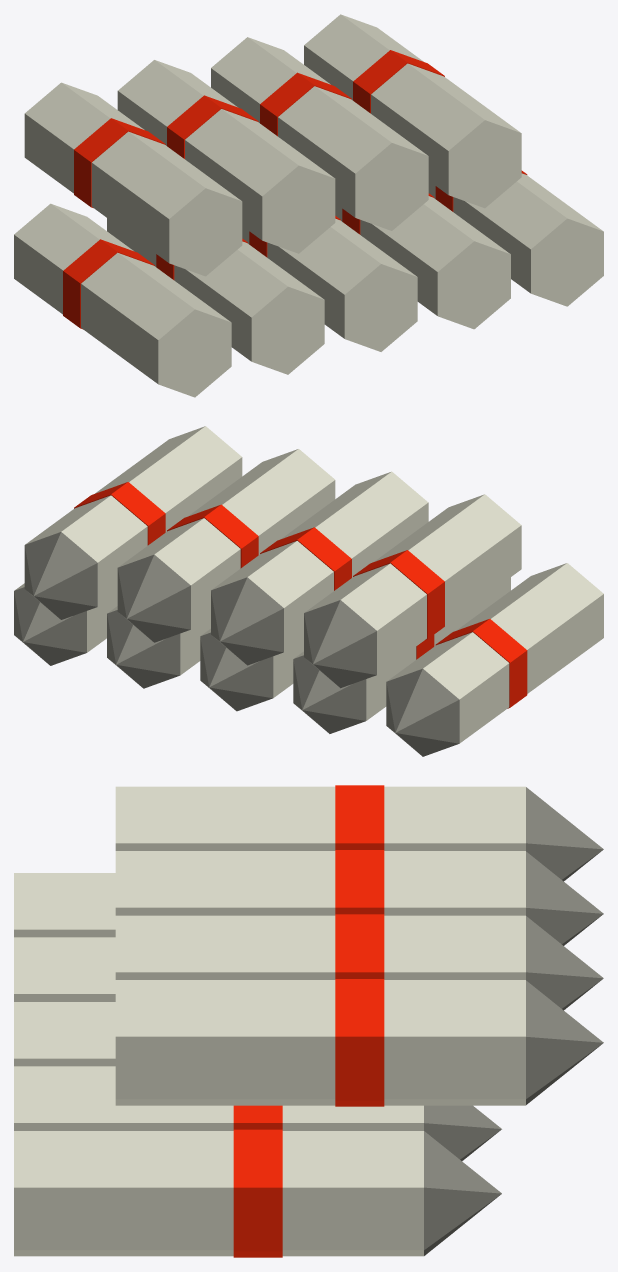
The model's file is ce_ammo_chcells_conc_b.obj.
The picture shows the model from 3 angles, top to bottom: view 1: azimuth 30°, elevation 25°; view 2: azimuth 150°, elevation 25°; view 3: azimuth 270°, elevation 25°; orthographic projection. The views are drawn at different scales.
Visible parts, largest first — view 1: ce_ammo_chcells_conc_b_20, ce_ammo_chcells_conc_b_0, ce_ammo_chcells_conc_b_24, ce_ammo_chcells_conc_b_32, ce_ammo_chcells_conc_b_28, ce_ammo_chcells_conc_b_8, ce_ammo_chcells_conc_b_4, ce_ammo_chcells_conc_b_12, ce_ammo_chcells_conc_b_16, ce_ammo_chcells_conc_b_22, ce_ammo_chcells_conc_b_2, ce_ammo_chcells_conc_b_26 (+8 smaller); view 2: ce_ammo_chcells_conc_b_0, ce_ammo_chcells_conc_b_20, ce_ammo_chcells_conc_b_28, ce_ammo_chcells_conc_b_32, ce_ammo_chcells_conc_b_24, ce_ammo_chcells_conc_b_2, ce_ammo_chcells_conc_b_22, ce_ammo_chcells_conc_b_34, ce_ammo_chcells_conc_b_30, ce_ammo_chcells_conc_b_26, ce_ammo_chcells_conc_b_3, ce_ammo_chcells_conc_b_31 (+17 smaller); view 3: ce_ammo_chcells_conc_b_32, ce_ammo_chcells_conc_b_16, ce_ammo_chcells_conc_b_34, ce_ammo_chcells_conc_b_18, ce_ammo_chcells_conc_b_24, ce_ammo_chcells_conc_b_20, ce_ammo_chcells_conc_b_28, ce_ammo_chcells_conc_b_12, ce_ammo_chcells_conc_b_22, ce_ammo_chcells_conc_b_26, ce_ammo_chcells_conc_b_30, ce_ammo_chcells_conc_b_0 (+15 smaller).
Part boxes in pixels (box(x1,y1,x2,y2)): ce_ammo_chcells_conc_b_20: box(91, 131, 242, 276); ce_ammo_chcells_conc_b_0: box(81, 252, 231, 397); ce_ammo_chcells_conc_b_24: box(185, 109, 335, 253); ce_ammo_chcells_conc_b_32: box(371, 63, 521, 208); ce_ammo_chcells_conc_b_28: box(278, 86, 428, 230); ce_ammo_chcells_conc_b_8: box(267, 218, 417, 351); ce_ammo_chcells_conc_b_4: box(174, 241, 324, 374); ce_ammo_chcells_conc_b_12: box(360, 196, 510, 329); ce_ammo_chcells_conc_b_16: box(453, 173, 603, 306); ce_ammo_chcells_conc_b_22: box(24, 82, 144, 193); ce_ammo_chcells_conc_b_2: box(14, 203, 133, 314); ce_ammo_chcells_conc_b_26: box(117, 60, 237, 145); ce_ammo_chcells_conc_b_0: box(456, 563, 603, 693); ce_ammo_chcells_conc_b_20: box(374, 494, 521, 624); ce_ammo_chcells_conc_b_28: box(188, 449, 335, 554); ce_ammo_chcells_conc_b_32: box(95, 426, 242, 532); ce_ammo_chcells_conc_b_24: box(281, 471, 428, 577); ce_ammo_chcells_conc_b_2: box(387, 632, 509, 743); ce_ammo_chcells_conc_b_22: box(305, 563, 426, 674); ce_ammo_chcells_conc_b_34: box(25, 495, 147, 606); ce_ammo_chcells_conc_b_30: box(118, 518, 240, 629); ce_ammo_chcells_conc_b_26: box(212, 541, 333, 651); ce_ammo_chcells_conc_b_3: box(386, 668, 459, 756); ce_ammo_chcells_conc_b_31: box(117, 554, 190, 642); ce_ammo_chcells_conc_b_32: box(115, 980, 335, 1105); ce_ammo_chcells_conc_b_16: box(14, 1131, 233, 1256); ce_ammo_chcells_conc_b_34: box(384, 980, 525, 1105); ce_ammo_chcells_conc_b_18: box(282, 1131, 423, 1256); ce_ammo_chcells_conc_b_24: box(115, 851, 335, 915); ce_ammo_chcells_conc_b_20: box(115, 786, 335, 850); ce_ammo_chcells_conc_b_28: box(115, 915, 335, 979); ce_ammo_chcells_conc_b_12: box(14, 1066, 233, 1130); ce_ammo_chcells_conc_b_22: box(384, 786, 525, 850); ce_ammo_chcells_conc_b_26: box(384, 851, 525, 915); ce_ammo_chcells_conc_b_30: box(384, 915, 525, 979); ce_ammo_chcells_conc_b_0: box(14, 873, 115, 937).
Bounding box in the file's own units: 0.7202 × 0.2674 × 0.58.
